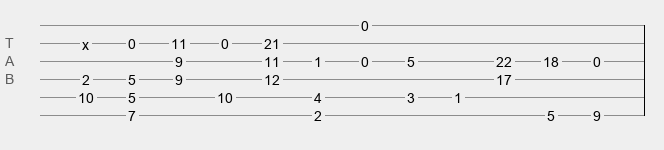0: (128, 36, 136, 46), (221, 36, 229, 46), (361, 18, 369, 28), (361, 54, 369, 64), (593, 54, 601, 64)
1: (314, 54, 322, 64), (454, 90, 462, 100)
10: (78, 90, 94, 100), (217, 90, 233, 100)
11: (171, 36, 187, 46), (264, 54, 280, 64)
12: (264, 72, 280, 82)
17: (496, 72, 512, 82)
18: (543, 54, 559, 64)
2: (82, 72, 90, 82), (314, 108, 322, 118)
21: (264, 36, 280, 46)
22: (496, 54, 512, 64)
3: (407, 90, 415, 100)
4: (314, 90, 322, 100)
5: (128, 72, 136, 82), (128, 90, 136, 100), (407, 54, 415, 64), (547, 108, 555, 118)
7: (128, 108, 136, 118)
9: (175, 72, 183, 82), (175, 54, 183, 64), (593, 108, 601, 118)
x: (82, 37, 89, 45)
